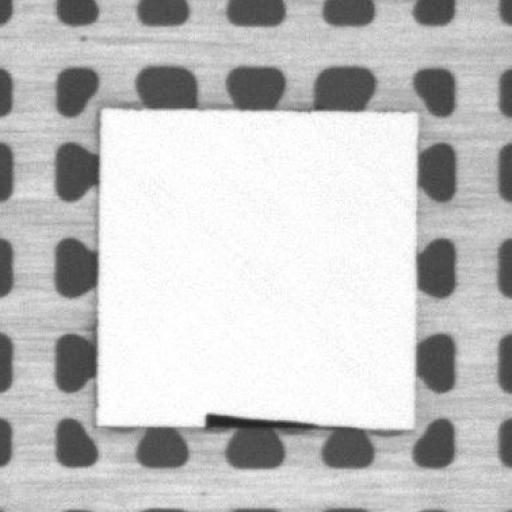DIE_BROKEN: (199, 407, 355, 431)
